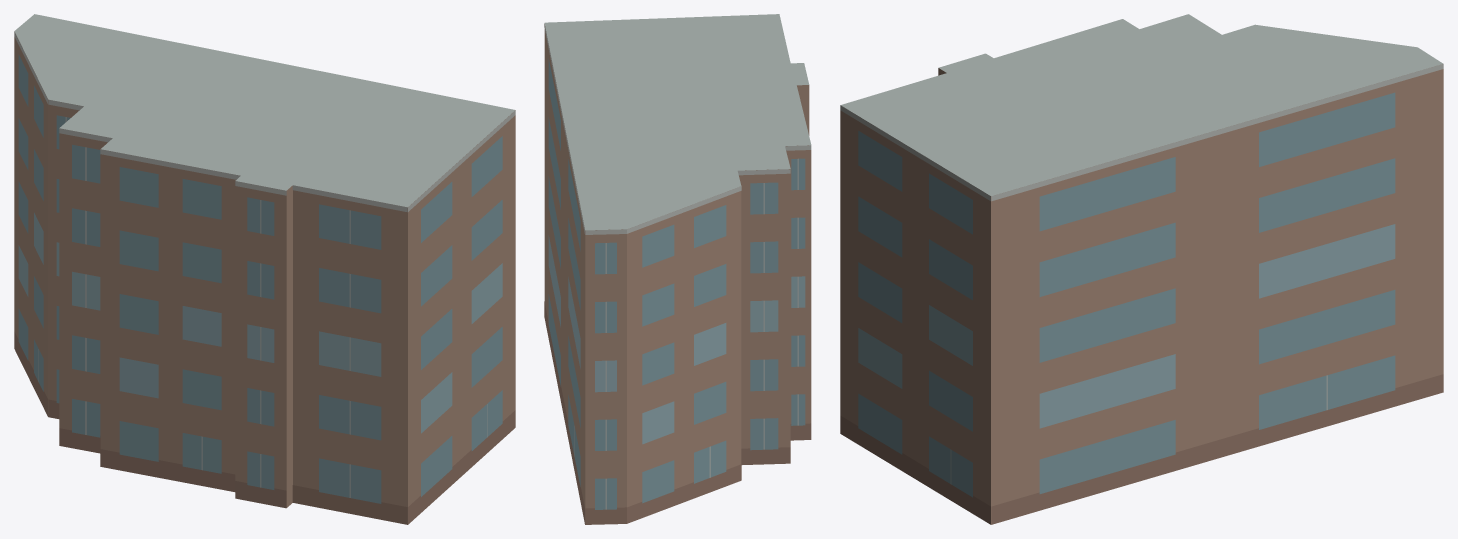
File: survey-upis-32660711.glb
3 views of the same model, side by side, from view 1: azimuth 30°, elevation 25°; view 2: azimuth 150°, elevation 25°; view 3: azimuth 270°, elevation 25° (orthographic). The views are drawn at different scales.
Parts seen in each view (by area): view 1: survey-upis-32660711.tmp; view 2: survey-upis-32660711.tmp; view 3: survey-upis-32660711.tmp.
Part boxes in pixels (x1,y1,x2,y2): survey-upis-32660711.tmp: (14, 14, 515, 524); survey-upis-32660711.tmp: (544, 14, 811, 524); survey-upis-32660711.tmp: (840, 14, 1443, 524).
Bounding box in the file's own units: 18.45 × 15.5 × 25.79.
